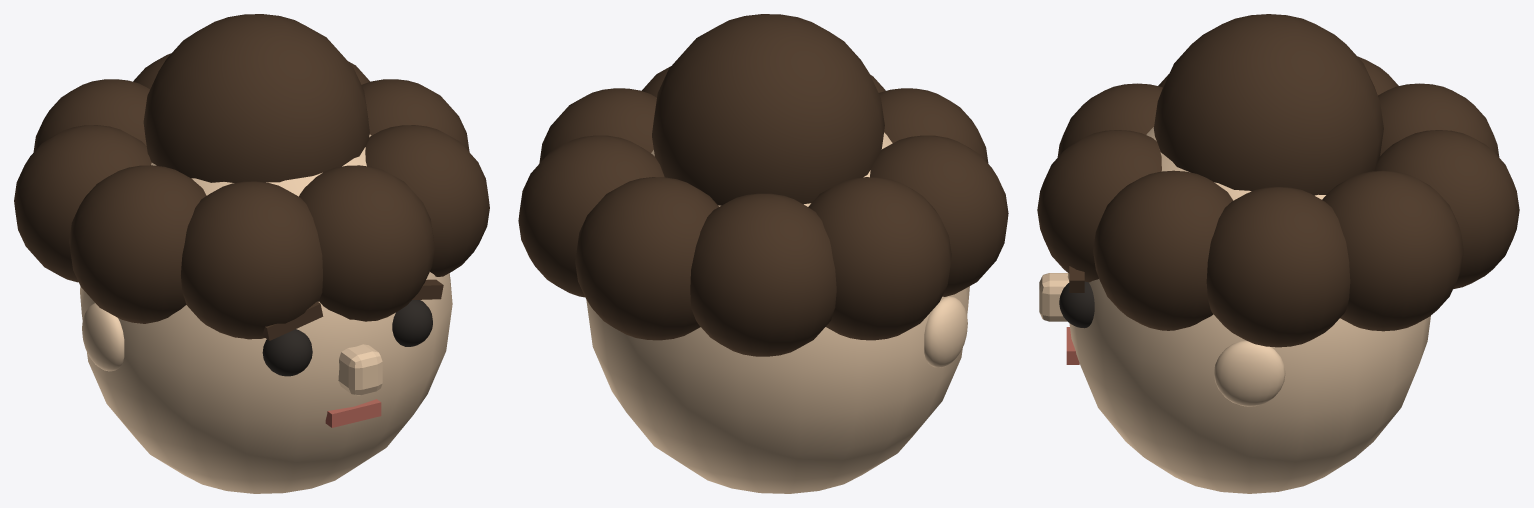
The model's file is fig_head_curly.glb.
The picture shows the model from 3 angles, left to right: view 1: azimuth 30°, elevation 25°; view 2: azimuth 150°, elevation 25°; view 3: azimuth 270°, elevation 25°; orthographic projection. The views are drawn at different scales.
Visible parts, largest first — view 1: skin_head, hair_top, hair_curl.006, hair_curl.005, hair_curl.007, hair_curl.004, hair_curl.008, hair_curl.003, hair_curl, skin_ear, skin_nose, eye (+3 smaller); view 2: skin_head, hair_top, hair_curl.003, hair_curl.004, hair_curl.002, hair_curl.001, hair_curl.005, hair_curl, hair_curl.006, skin_ear; view 3: skin_head, hair_top, hair_curl, hair_curl.001, hair_curl.008, hair_curl.002, hair_curl.007, hair_curl.003, hair_curl.006, skin_ear.001, eye.001, skin_nose (+1 smaller).
Part boxes in pixels (bbox=[...]): skin_head: bbox=[80, 134, 452, 493]; hair_top: bbox=[143, 14, 369, 182]; hair_curl.006: bbox=[181, 181, 322, 339]; hair_curl.005: bbox=[69, 165, 206, 323]; hair_curl.007: bbox=[299, 165, 434, 321]; hair_curl.004: bbox=[14, 125, 151, 282]; hair_curl.008: bbox=[365, 125, 489, 276]; hair_curl.003: bbox=[33, 79, 149, 151]; hair_curl: bbox=[361, 79, 469, 151]; skin_ear: bbox=[82, 303, 124, 371]; skin_nose: bbox=[338, 344, 382, 395]; eye: bbox=[262, 329, 312, 376]; skin_head: bbox=[586, 132, 969, 493]; hair_top: bbox=[652, 14, 884, 205]; hair_curl.003: bbox=[690, 193, 836, 356]; hair_curl.004: bbox=[808, 177, 951, 340]; hair_curl.002: bbox=[575, 177, 718, 340]; hair_curl.001: bbox=[518, 135, 664, 297]; hair_curl.005: bbox=[870, 135, 1008, 296]; hair_curl: bbox=[539, 88, 656, 163]; hair_curl.006: bbox=[878, 88, 988, 163]; skin_ear: bbox=[924, 296, 967, 367]; skin_head: bbox=[1067, 127, 1430, 493]; hair_top: bbox=[1153, 14, 1383, 195]; hair_curl: bbox=[1206, 187, 1350, 347]; hair_curl.001: bbox=[1322, 170, 1463, 331]; hair_curl.008: bbox=[1093, 170, 1233, 330]; hair_curl.002: bbox=[1374, 130, 1519, 289]; hair_curl.007: bbox=[1037, 130, 1161, 282]; hair_curl.003: bbox=[1378, 83, 1499, 157]; hair_curl.006: bbox=[1057, 83, 1162, 157]; skin_ear.001: bbox=[1214, 341, 1285, 406]; eye.001: bbox=[1059, 281, 1094, 328]; skin_nose: bbox=[1039, 273, 1069, 321].
Size of the model in its own units: 0.3733 by 0.3915 by 0.3771.
